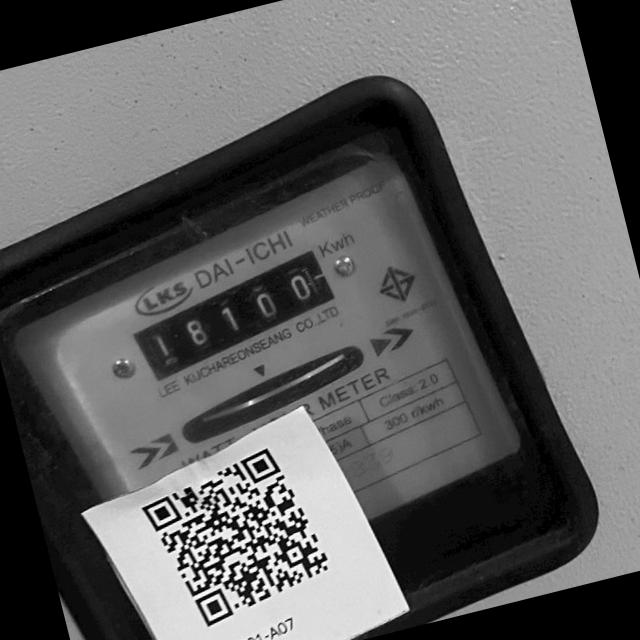qr_code: (134, 441, 337, 631)
